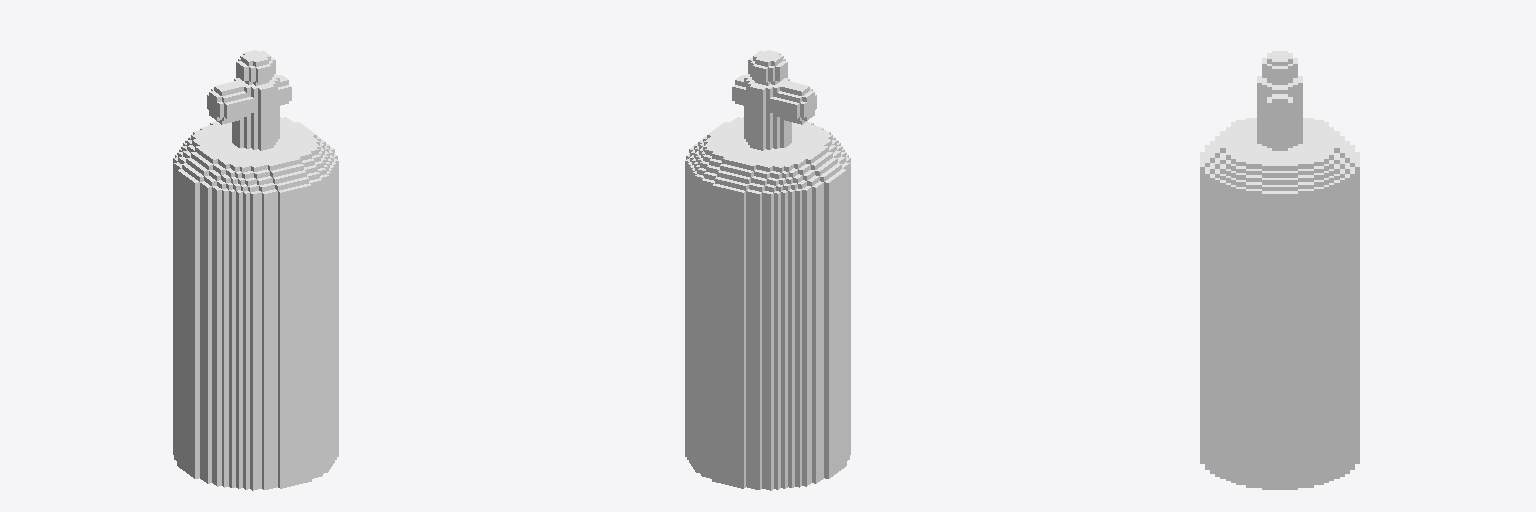
File: TanqueOxigenio.obj
3 views of the same model, side by side, from view 1: azimuth 30°, elevation 25°; view 2: azimuth 150°, elevation 25°; view 3: azimuth 270°, elevation 25° (orthographic).
Parts seen in each view (by area): view 1: object 1; view 2: object 1; view 3: object 1.
Part boxes in pixels (bbox=[...]): object 1: bbox=[173, 50, 338, 490]; object 1: bbox=[685, 50, 850, 490]; object 1: bbox=[1200, 51, 1359, 489].
Size of the model in its own units: 3.1 by 8.5 by 3.1.